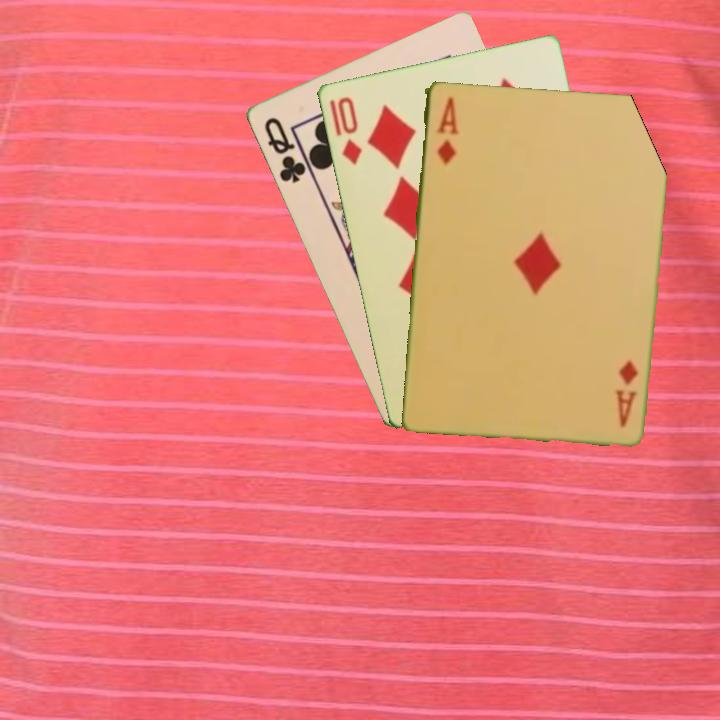10d: (333, 93, 365, 168)
Ad: (432, 93, 460, 167), (612, 356, 640, 430)
Qc: (260, 113, 314, 186)
